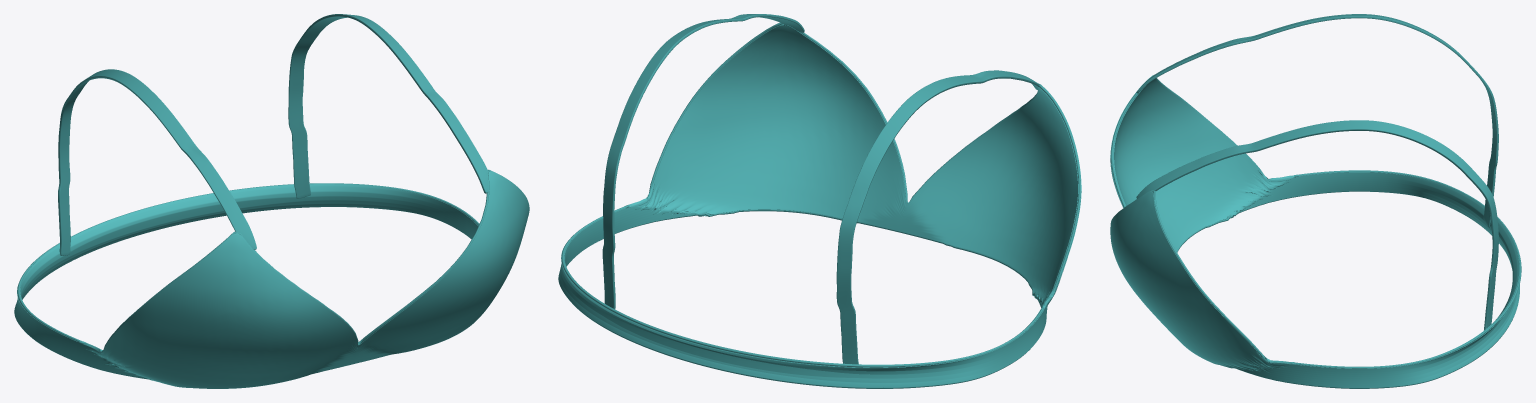
File: Feminine-triangle-top.glb
3 views of the same model, side by side, from view 1: azimuth 30°, elevation 25°; view 2: azimuth 150°, elevation 25°; view 3: azimuth 270°, elevation 25° (orthographic). The views are drawn at different scales.
Visible parts, largest first — view 1: Clothing / connected triangle cups and underband, Clothing / Triangle seated shoulder strap 1, Clothing / Triangle seated shoulder strap -1, Triangle / sewn binding 1 export; view 2: Clothing / connected triangle cups and underband, Clothing / Triangle seated shoulder strap -1, Clothing / Triangle seated shoulder strap 1, Triangle / sewn binding 1 export, Triangle / sewn binding 0 export; view 3: Clothing / connected triangle cups and underband, Clothing / Triangle seated shoulder strap 1, Clothing / Triangle seated shoulder strap -1, Triangle / sewn binding 1 export, Triangle / sewn binding 0 export.
Boxes of the visible parts, left/top/right/bottom form: Clothing / connected triangle cups and underband: left=14, top=171, right=529, bottom=388; Clothing / Triangle seated shoulder strap 1: left=288, top=14, right=488, bottom=198; Clothing / Triangle seated shoulder strap -1: left=58, top=69, right=256, bottom=255; Triangle / sewn binding 1 export: left=17, top=169, right=517, bottom=349; Clothing / connected triangle cups and underband: left=558, top=23, right=1081, bottom=387; Clothing / Triangle seated shoulder strap -1: left=836, top=70, right=1039, bottom=364; Clothing / Triangle seated shoulder strap 1: left=602, top=14, right=804, bottom=309; Triangle / sewn binding 1 export: left=561, top=22, right=1081, bottom=367; Triangle / sewn binding 0 export: left=564, top=209, right=1035, bottom=388; Clothing / connected triangle cups and underband: left=1110, top=75, right=1519, bottom=388; Clothing / Triangle seated shoulder strap 1: left=1136, top=120, right=1498, bottom=330; Clothing / Triangle seated shoulder strap -1: left=1136, top=14, right=1498, bottom=227; Triangle / sewn binding 1 export: left=1111, top=74, right=1521, bottom=368; Triangle / sewn binding 0 export: left=1177, top=191, right=1515, bottom=388.
Size of the model in its own units: 0.5729 by 0.3039 by 0.5011.
